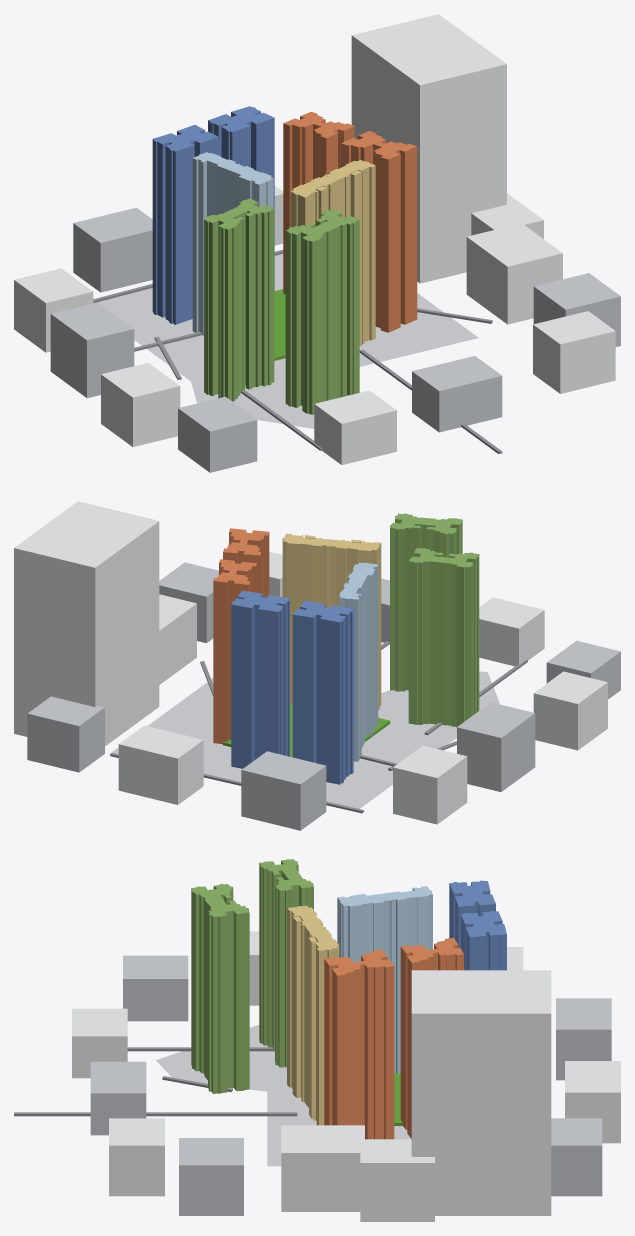
The model's file is universe-massing.glb.
The picture shows the model from 3 angles, top to bottom: view 1: azimuth 30°, elevation 25°; view 2: azimuth 150°, elevation 25°; view 3: azimuth 270°, elevation 25°; orthographic projection. The views are drawn at different scales.
Visible parts, largest first — view 1: STRATUM, Tower_A, Tower_B, SitePlot, Tower_H, Tower_E, ctx_0, ctx_7, ctx_9, ctx_2, ctx_3, ctx_6 (+13 smaller); view 2: STRATUM, Tower_B, Tower_E, Tower_F, SitePlot, ctx_7, ctx_9, ctx_10, Tower_A, ctx_11, ctx_8, ctx_6 (+13 smaller); view 3: STRATUM, Tower_H, Tower_A, ctx_0, Tower_B, ctx_12, ctx_1, SitePlot, ctx_2, ctx_5, Tower_J, ctx_11 (+12 smaller).
Part boxes in pixels (left/top/right/bottom): STRATUM: left=351, top=14, right=506, bottom=283; Tower_A: left=285, top=209, right=359, bottom=414; Tower_B: left=204, top=198, right=274, bottom=401; SitePlot: left=96, top=254, right=478, bottom=428; Tower_H: left=341, top=131, right=417, bottom=332; Tower_E: left=152, top=125, right=218, bottom=324; ctx_0: left=466, top=223, right=562, bottom=324; ctx_7: left=50, top=302, right=134, bottom=398; ctx_9: left=73, top=207, right=152, bottom=292; ctx_2: left=533, top=311, right=615, bottom=393; ctx_3: left=412, top=356, right=502, bottom=432; ctx_6: left=101, top=363, right=180, bottom=446; STRATUM: left=14, top=501, right=159, bottom=746; Tower_B: left=408, top=548, right=479, bottom=727; Tower_E: left=292, top=601, right=353, bottom=784; Tower_F: left=231, top=590, right=289, bottom=768; SitePlot: left=109, top=671, right=499, bottom=808; ctx_7: left=457, top=702, right=535, bottom=791; ctx_9: left=241, top=751, right=326, bottom=830; ctx_10: left=118, top=725, right=203, bottom=804; Tower_A: left=390, top=513, right=462, bottom=691; ctx_11: left=27, top=696, right=104, bottom=772; ctx_8: left=393, top=745, right=467, bottom=824; ctx_6: left=533, top=671, right=607, bottom=750; STRATUM: left=411, top=970, right=551, bottom=1215; Tower_H: left=324, top=949, right=394, bottom=1139; Tower_A: left=191, top=884, right=249, bottom=1093; ctx_0: left=281, top=1125, right=364, bottom=1211; Tower_B: left=259, top=859, right=313, bottom=1067; ctx_12: left=360, top=1139, right=434, bottom=1221; ctx_1: left=179, top=1138, right=243, bottom=1215; SitePlot: left=156, top=1025, right=410, bottom=1166; ctx_2: left=109, top=1118, right=164, bottom=1196; ctx_5: left=123, top=955, right=188, bottom=1021; Tower_J: left=287, top=905, right=322, bottom=1105; ctx_11: left=551, top=1118, right=602, bottom=1196.
Size of what is drawn, in the model's own units: 61 by 24 by 65.22.
